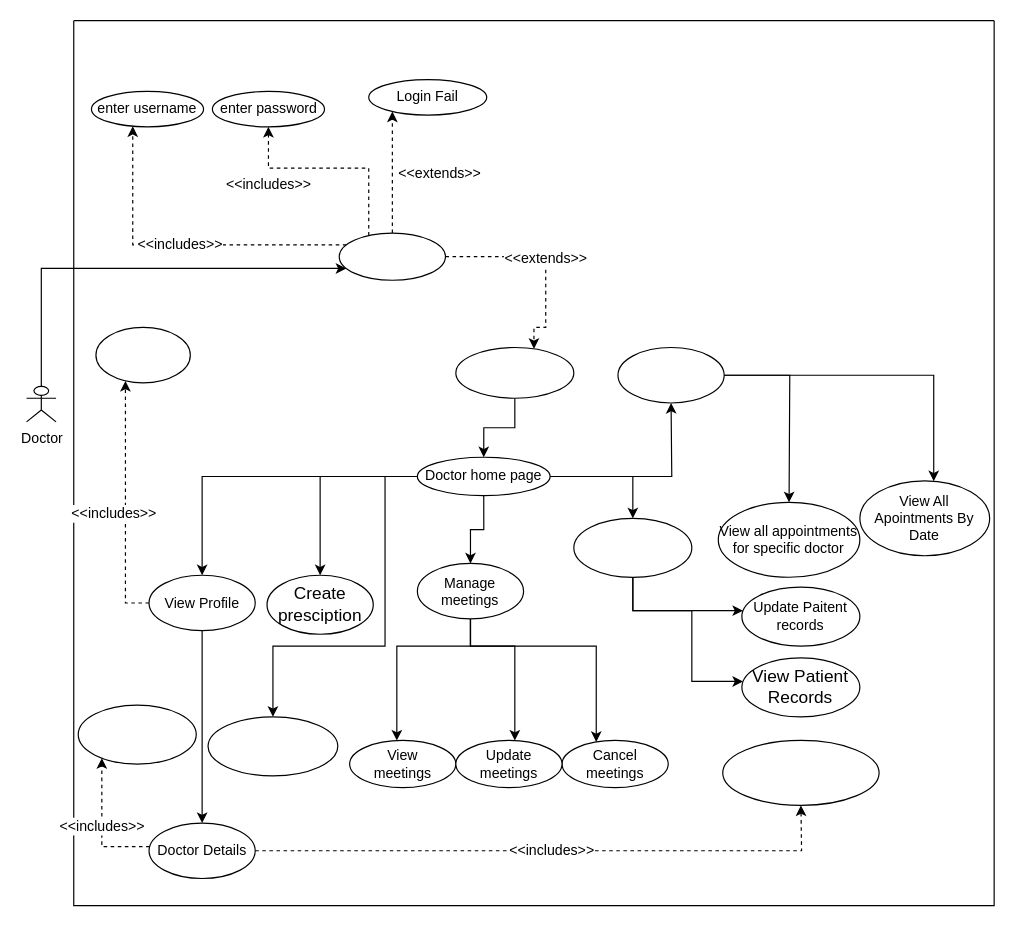
The diagram is 1015 pixels wide and 926 high, and some of its shapes have lost their labels. The shapes that lost their labels are listed below. From the top down, each one's centre as x and y in pixels, then its label:
At point 391,256: "Doctor login page".
At point 142,354: "Edit Profile".
At point 514,372: "Login successful".
At point 670,374: "View All Apointments".
At point 632,547: "Patient Records".
At point 136,734: "Availability".
At point 272,746: "Gives consulation".
At point 800,772: "Areas of expertise/Board certified fields".
